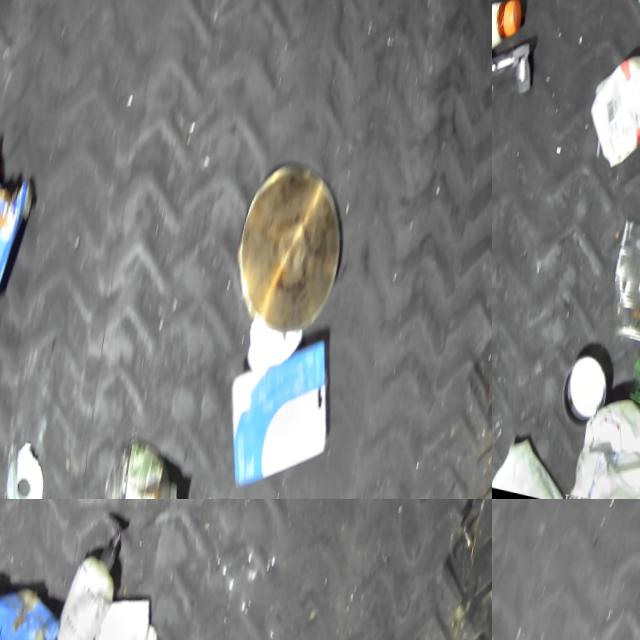can: (601, 206, 640, 353), (557, 345, 614, 430), (83, 580, 154, 640), (136, 615, 168, 640)
milk_jug: (564, 380, 640, 499), (492, 428, 576, 499)
